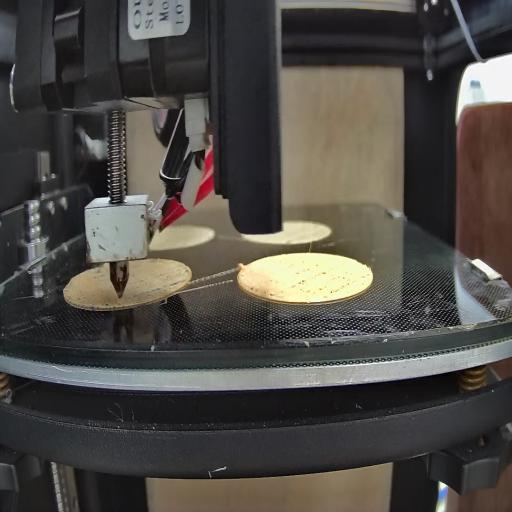under_extrusion: (288, 259, 369, 300), (139, 272, 192, 302), (70, 285, 122, 312), (248, 280, 282, 304)
